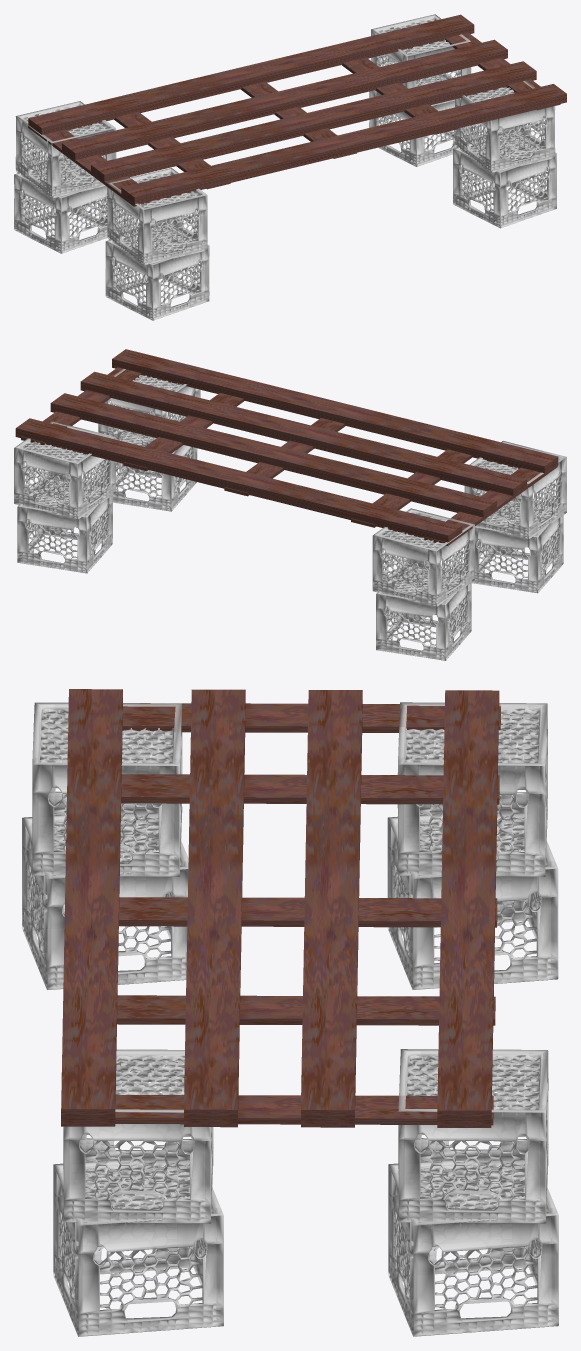
Rendered from tv stand.glb.
3 renders of one model, top to bottom at view 1: azimuth 30°, elevation 25°; view 2: azimuth 150°, elevation 25°; view 3: azimuth 270°, elevation 25°, orthographic. The views are drawn at different scales.
Visible parts, largest first — view 1: Cube.024, MilkCrateOne.002, MilkCrateOne.016, MilkCrateOne.001, MilkCrateOne.012, MilkCrateOne.015, MilkCrateOne.011, MilkCrateOne.014, MilkCrateOne.013; view 2: Cube.024, MilkCrateOne.011, MilkCrateOne.013, MilkCrateOne.014, MilkCrateOne.012, MilkCrateOne.002, MilkCrateOne.001, MilkCrateOne.016, MilkCrateOne.015; view 3: Cube.024, MilkCrateOne.014, MilkCrateOne.016, MilkCrateOne.013, MilkCrateOne.015, MilkCrateOne.011, MilkCrateOne.001, MilkCrateOne.012, MilkCrateOne.002.
Part boxes in pixels (x1=…): Cube.024: x1=28, y1=14, x2=566, y2=206; MilkCrateOne.002: x1=105, y1=225, x2=209, y2=320; MilkCrateOne.016: x1=453, y1=132, x2=556, y2=228; MilkCrateOne.001: x1=107, y1=168, x2=207, y2=265; MilkCrateOne.012: x1=14, y1=160, x2=117, y2=253; MilkCrateOne.015: x1=454, y1=80, x2=555, y2=172; MilkCrateOne.011: x1=15, y1=101, x2=116, y2=198; MilkCrateOne.014: x1=369, y1=75, x2=471, y2=166; MilkCrateOne.013: x1=371, y1=14, x2=471, y2=104; Cube.024: x1=15, y1=349, x2=558, y2=545; MilkCrateOne.011: x1=372, y1=508, x2=474, y2=607; MilkCrateOne.013: x1=14, y1=421, x2=116, y2=519; MilkCrateOne.014: x1=17, y1=478, x2=112, y2=573; MilkCrateOne.012: x1=376, y1=566, x2=471, y2=660; MilkCrateOne.002: x1=471, y1=500, x2=563, y2=593; MilkCrateOne.001: x1=464, y1=441, x2=566, y2=539; MilkCrateOne.016: x1=101, y1=429, x2=197, y2=511; MilkCrateOne.015: x1=98, y1=368, x2=200, y2=446; Cube.024: x1=61, y1=689, x2=500, y2=1127; MilkCrateOne.014: x1=388, y1=1160, x2=558, y2=1336; MilkCrateOne.016: x1=53, y1=1160, x2=223, y2=1336; MilkCrateOne.013: x1=398, y1=1049, x2=548, y2=1223; MilkCrateOne.015: x1=63, y1=1049, x2=213, y2=1223; MilkCrateOne.011: x1=397, y1=702, x2=547, y2=876; MilkCrateOne.001: x1=32, y1=702, x2=182, y2=876; MilkCrateOne.012: x1=387, y1=814, x2=558, y2=989; MilkCrateOne.002: x1=22, y1=814, x2=188, y2=990.
Size of the model in its own units: 2.94 by 0.7509 by 1.57.
2 materials, 1 textured.
